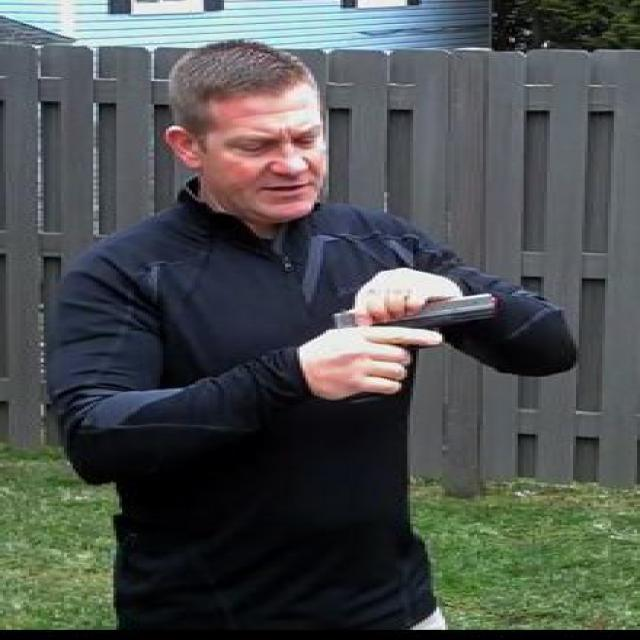gun: (323, 287, 494, 393)
